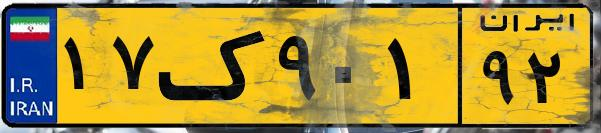0: (330, 28, 385, 110)
1: (385, 28, 445, 110), (57, 26, 110, 100)
2: (525, 38, 570, 115)
7: (110, 28, 158, 98)
9: (270, 28, 330, 110), (475, 38, 525, 113)
ک: (158, 12, 270, 120)
